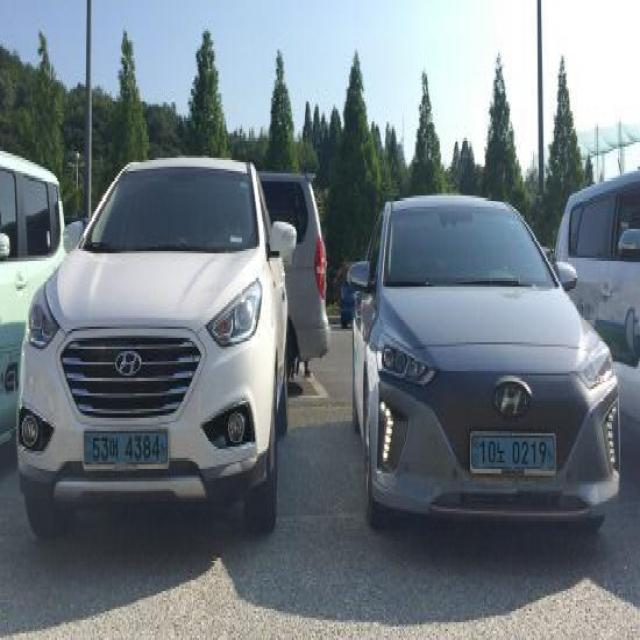EV_plate: (473, 429, 559, 480), (86, 428, 168, 474)
car: (19, 148, 299, 544), (344, 190, 622, 548)
